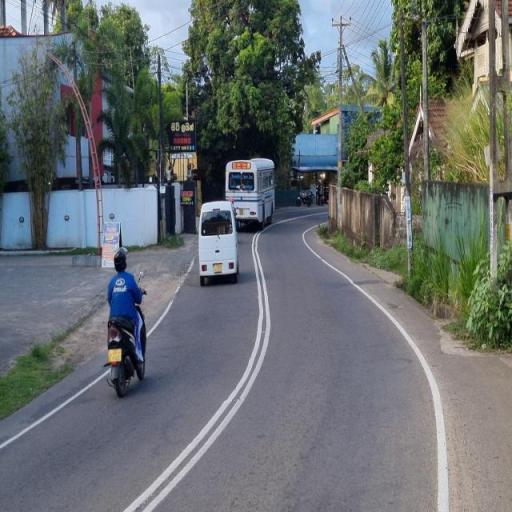double_white_line: (120, 230, 274, 511), (0, 364, 110, 449)
